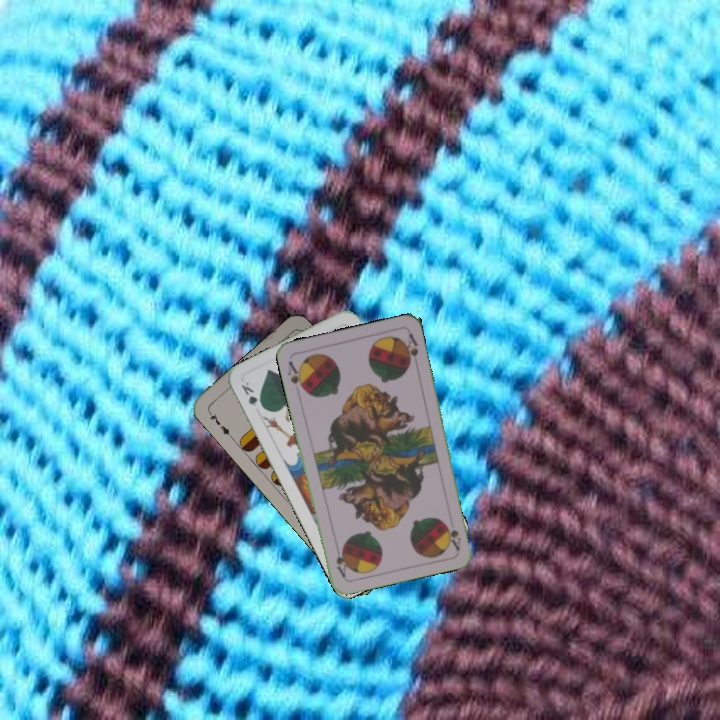E7: (204, 407, 235, 441)
GK: (237, 377, 267, 412)
SA: (284, 357, 308, 394), (443, 520, 464, 553)
